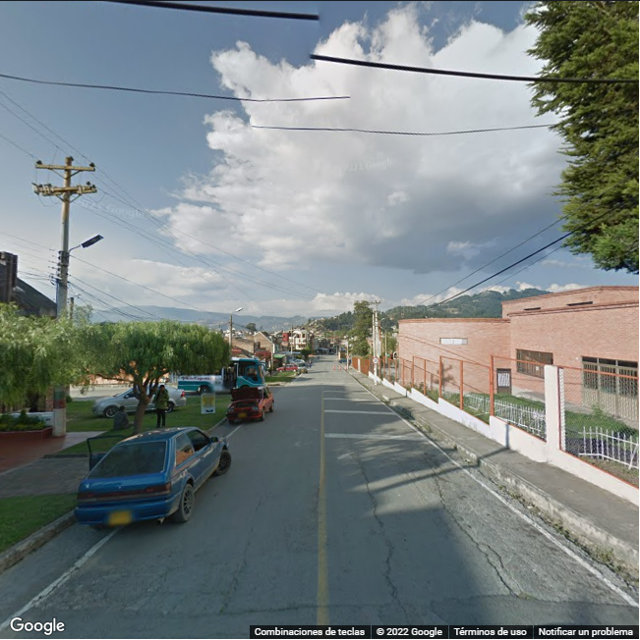D00: (434, 496, 521, 596), (362, 466, 402, 601), (221, 516, 257, 615), (131, 563, 171, 617)
D20: (53, 570, 108, 615)
